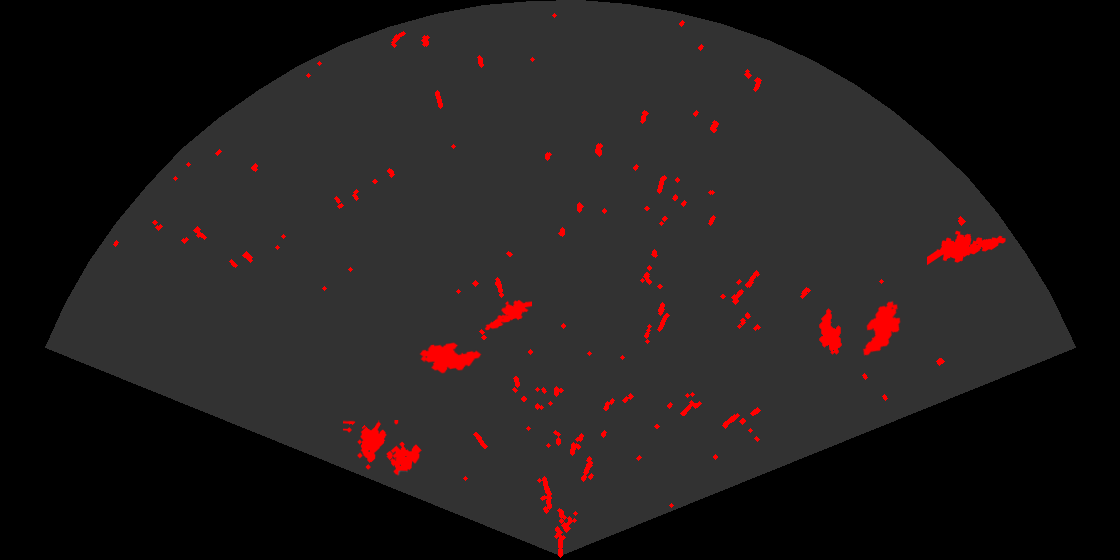AUV: (861, 299, 902, 357), (418, 341, 483, 375), (818, 307, 843, 356)
cage: (343, 420, 423, 477)
frogman: (927, 229, 1007, 267), (482, 298, 532, 332)
